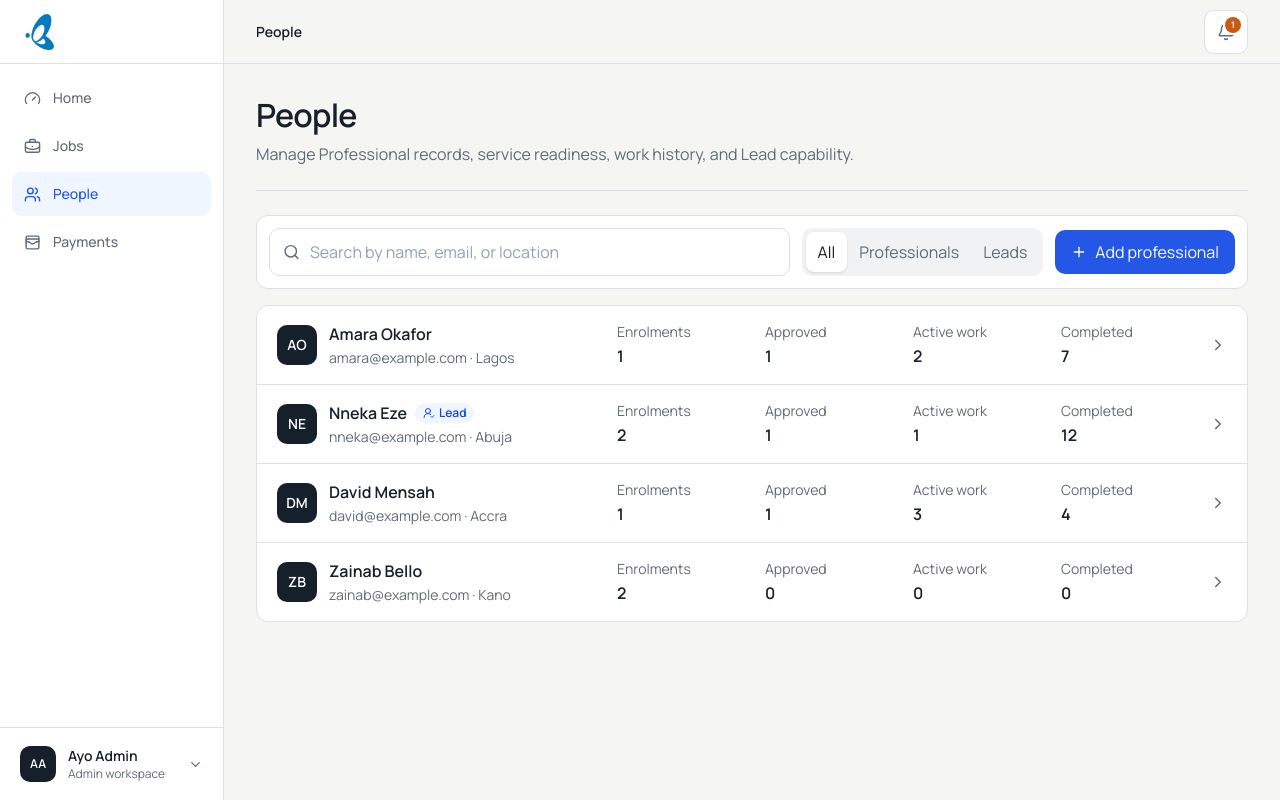
application routing › searches the People directory and opens a Professional record
The image size is (1280, 800).
Step 1. Type "Nneka" into the field with placeholder "Search by name, email, or location" → (529, 252), box [269,228,790,276]
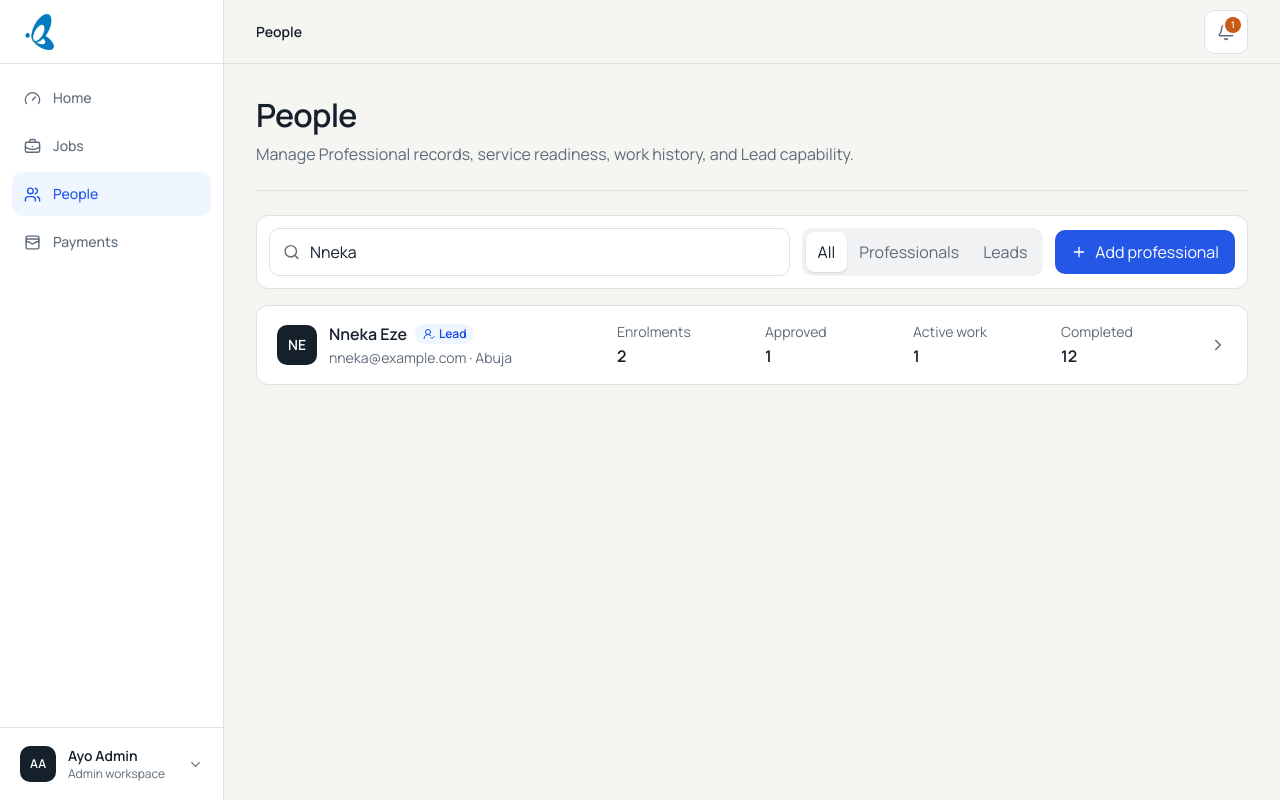
Check: the text "Nneka Eze" is shown, box [329,322,407,346]
Check: the link "Amara Okafor" is gone
Step 2. Click the link with aria-label "Open Nneka Eze" → (297, 345), box [277,322,1227,367]
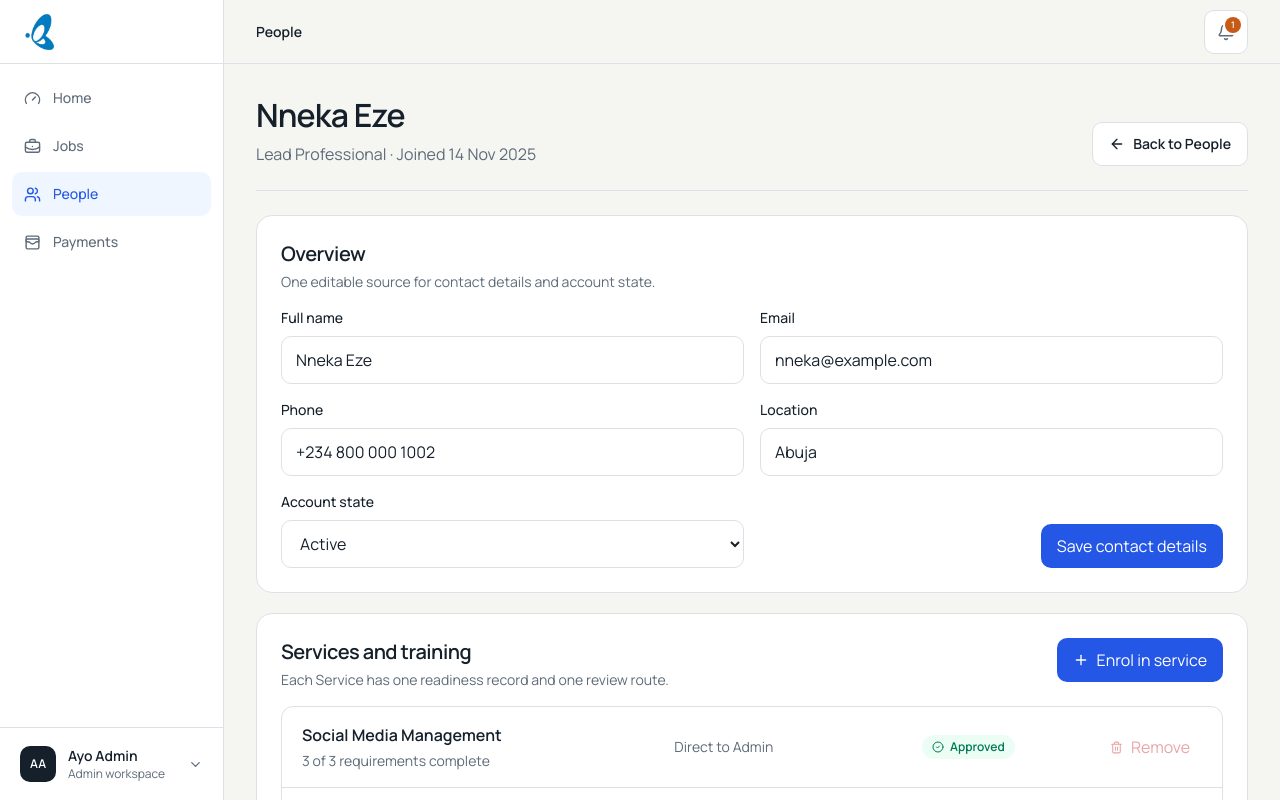
Check: the heading "Nneka Eze" is shown, box [256,93,405,137]
